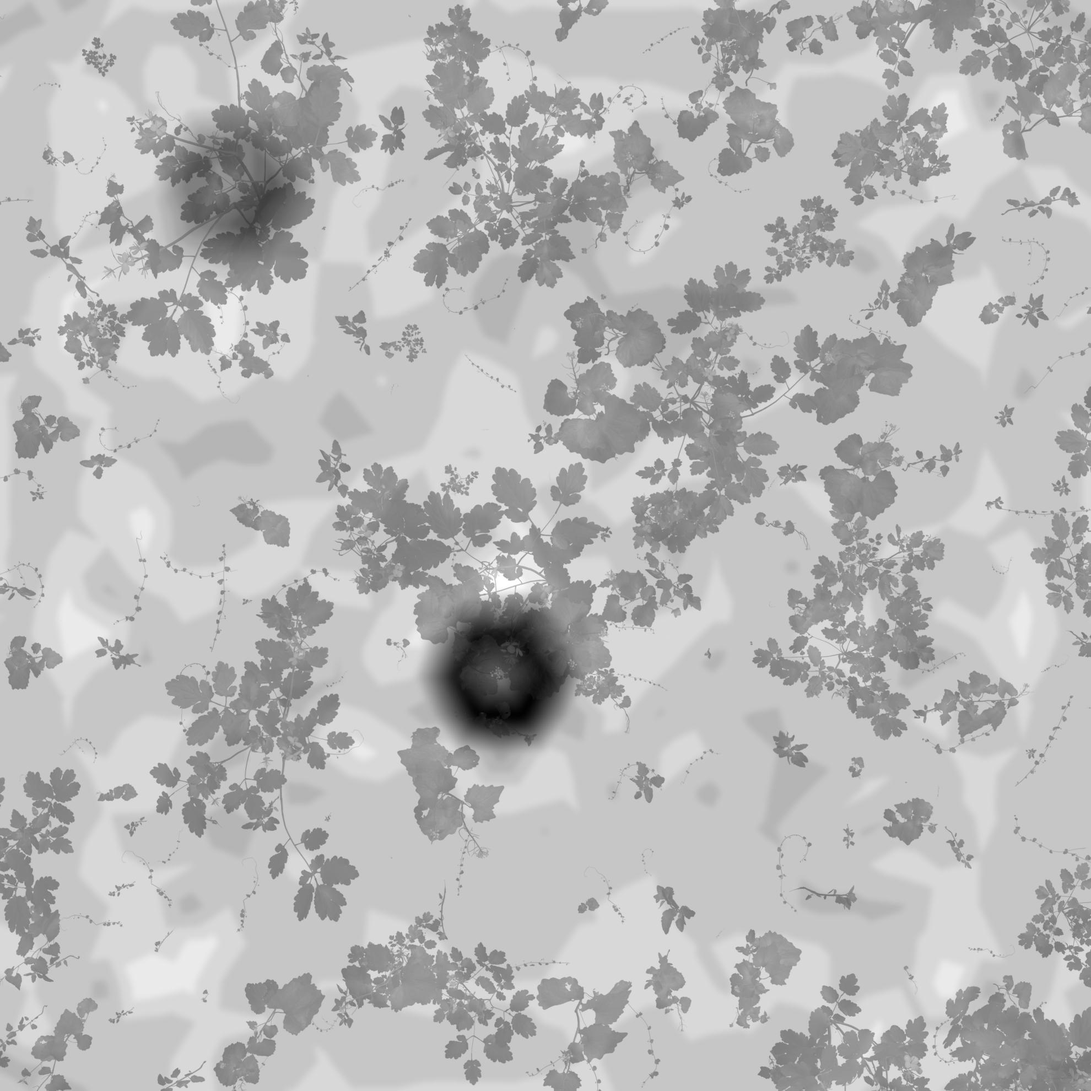landmine: (156, 112, 321, 261), (433, 600, 580, 758)
